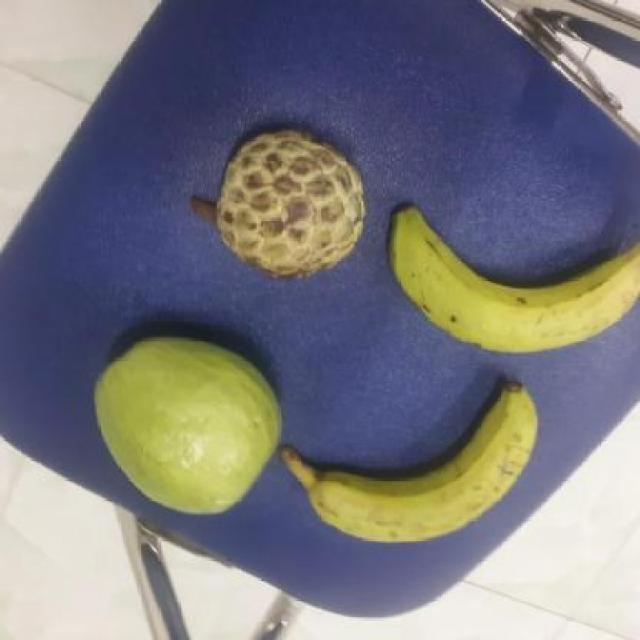banana: (274, 373, 532, 544), (381, 208, 640, 354)
guava: (85, 334, 282, 512)
sugar apple: (196, 131, 361, 278)
